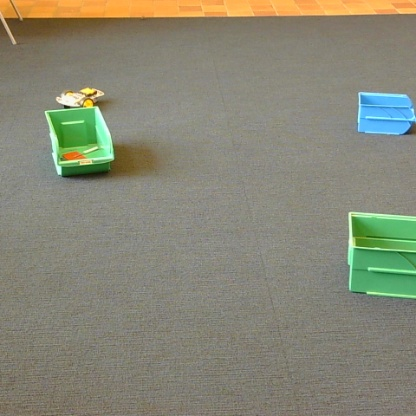robot: (56, 87, 104, 107)
